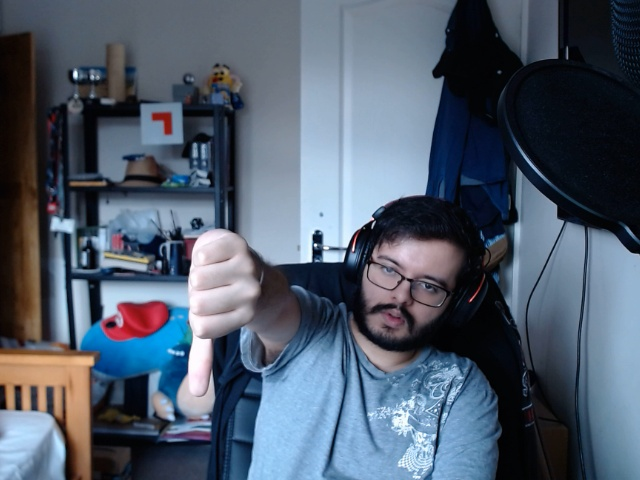Thumbs down: (170, 217, 268, 401)
